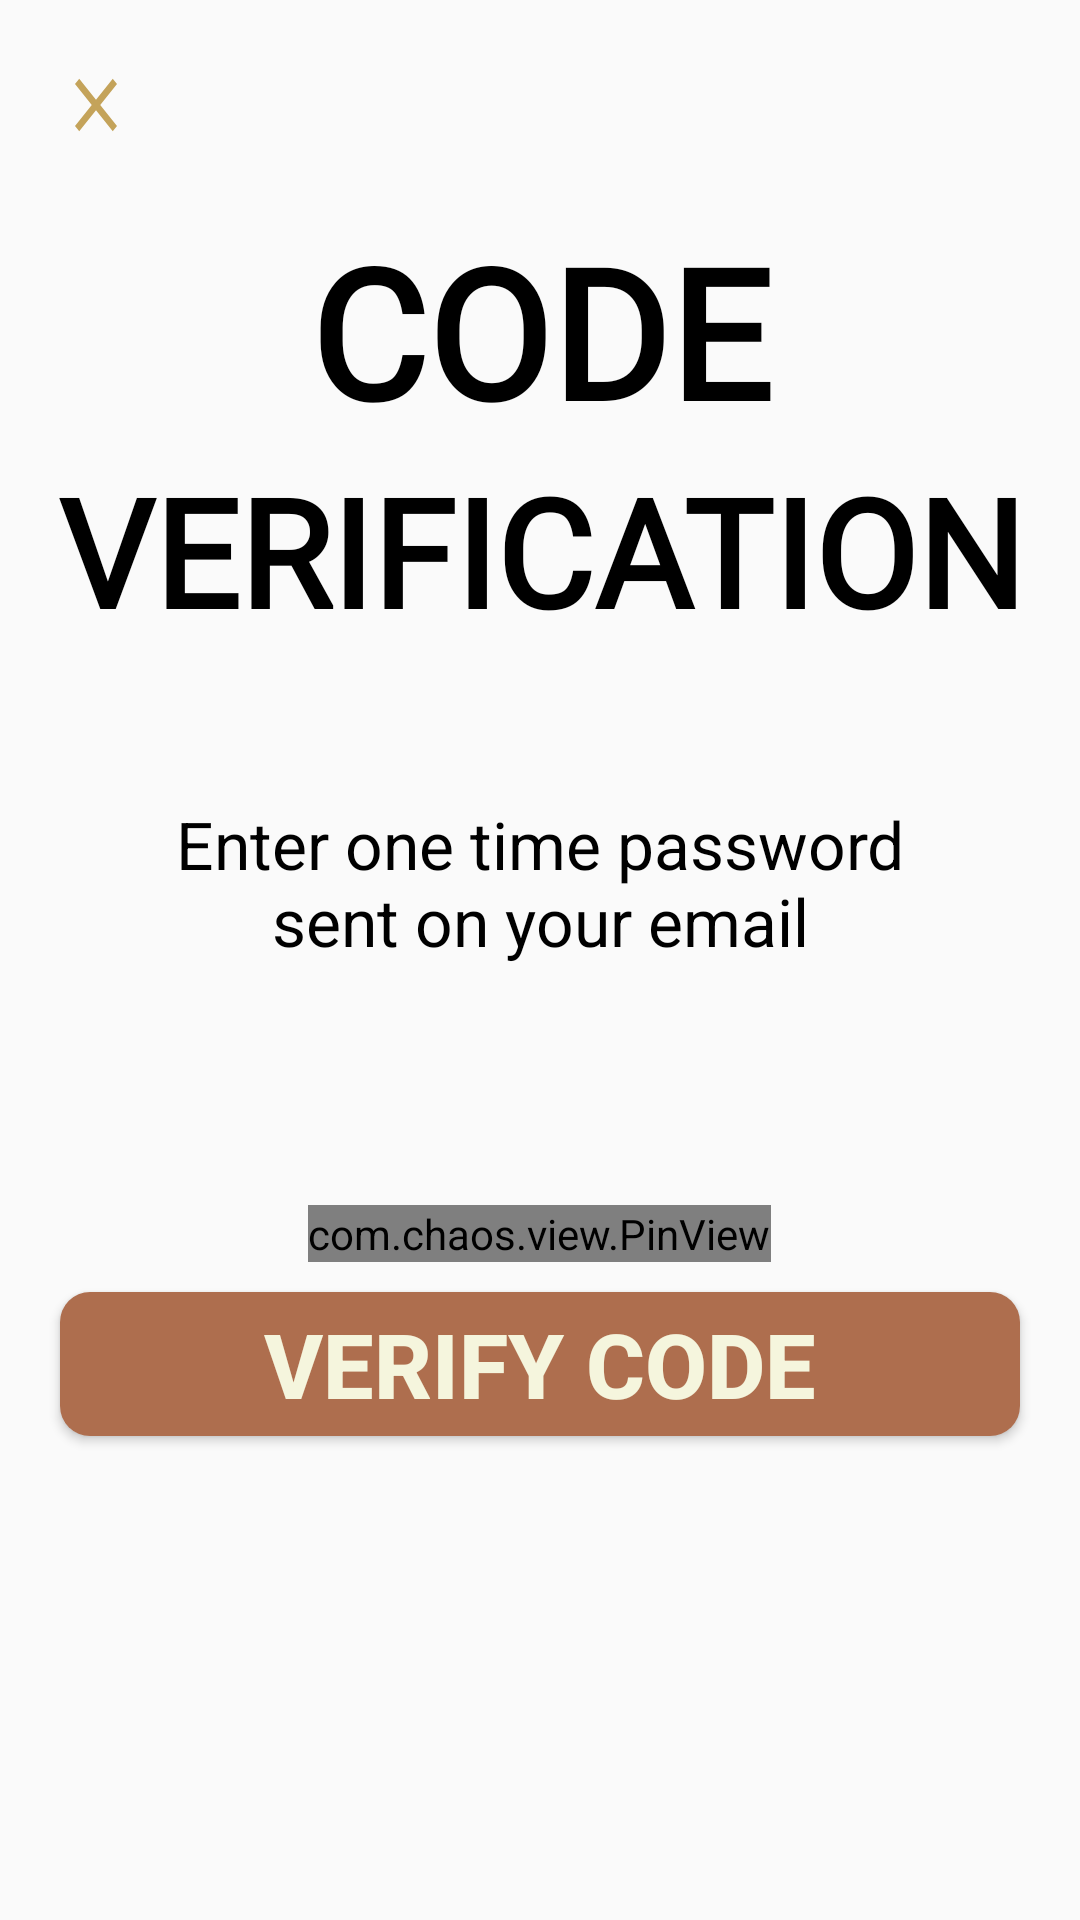

Icon click points for this 1080 × 1920 phone screenshot, format (x=x, y=y):
clear twin: (x=96, y=105)
